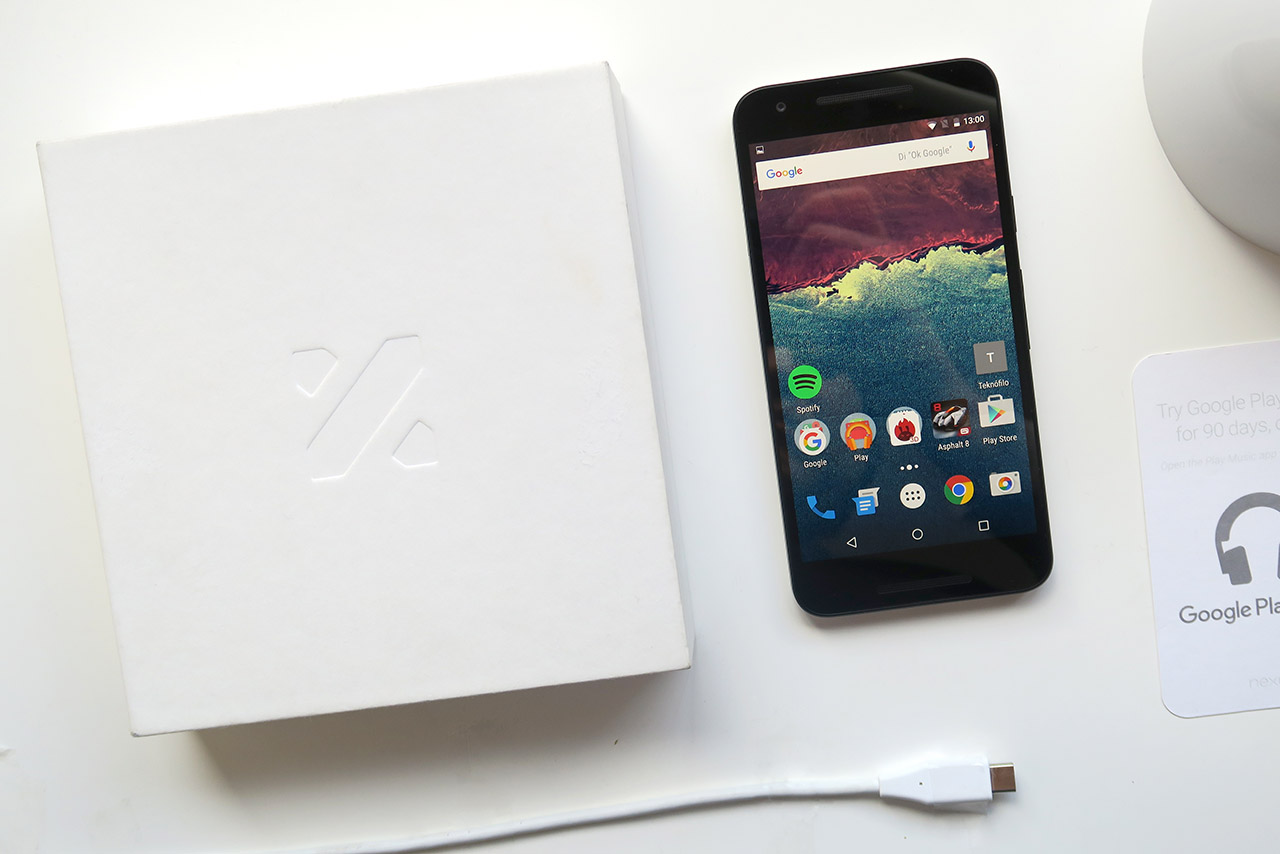smartphone: (731, 57, 1054, 618)
